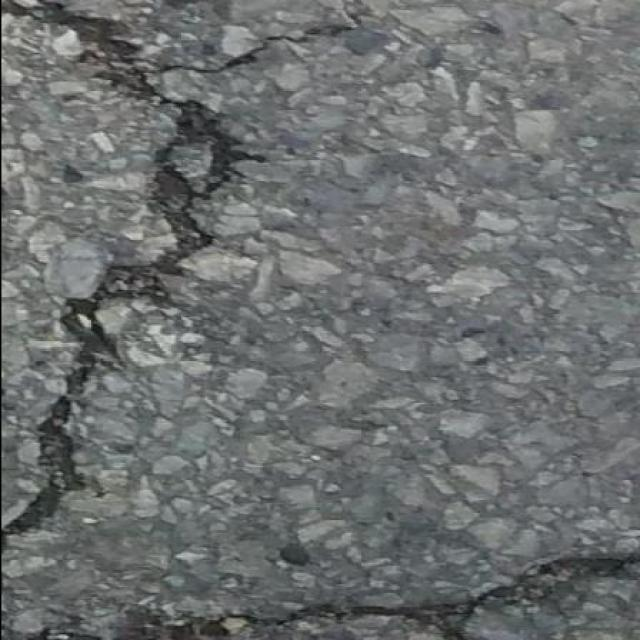Crack: (0, 100, 260, 552), (113, 551, 640, 640), (1, 0, 166, 102), (263, 0, 418, 46), (188, 44, 262, 72), (1, 626, 100, 640)
